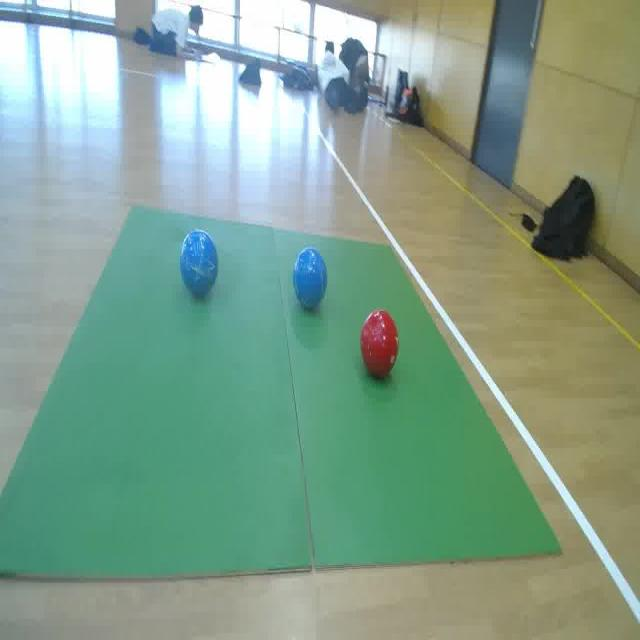blue_ball: (178, 225, 221, 298), (292, 240, 328, 312)
red_ball: (357, 304, 397, 373)
